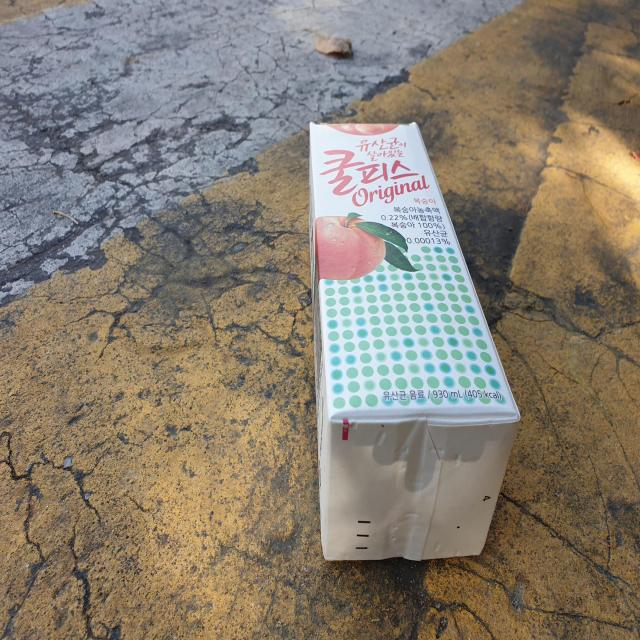paperpack: (310, 122, 521, 561)
